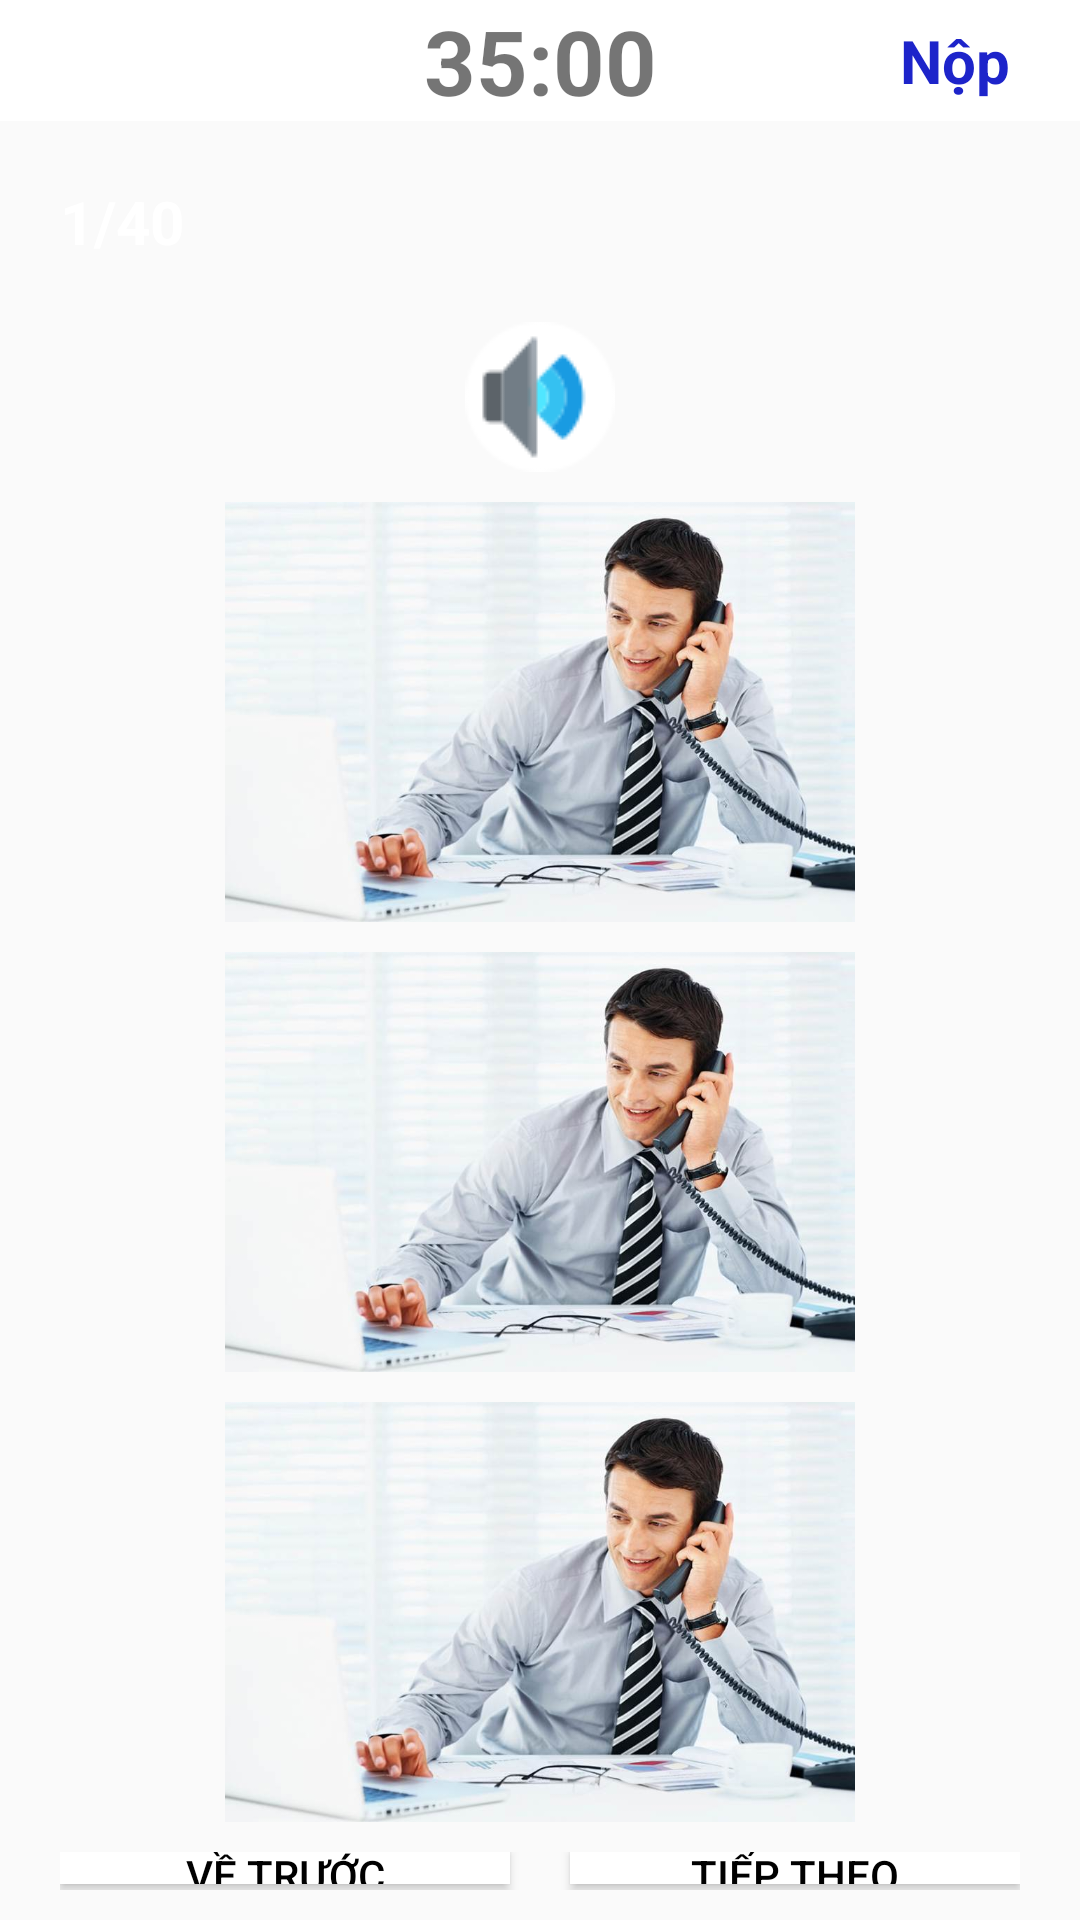

Where icons sit on this 1080x1920 app screen, as [left=x1, top=y1, right=x2, bottom=y2]:
speaker hsk: [left=482, top=337, right=585, bottom=457]
